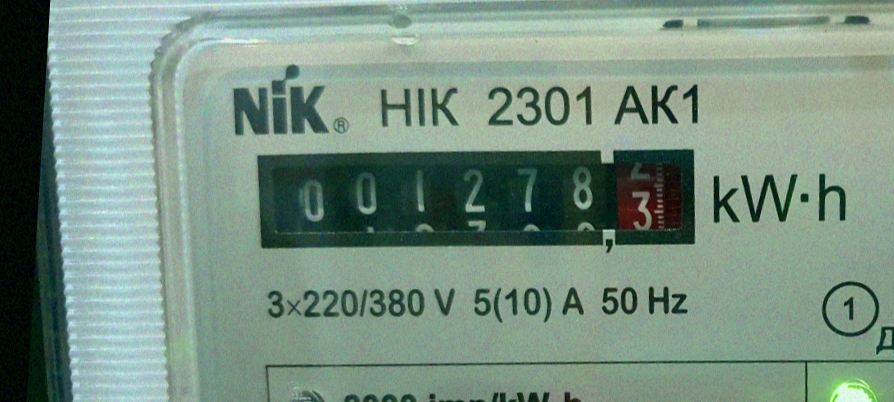0: (298, 174, 329, 224), (351, 168, 379, 216)
1: (410, 165, 429, 214)
2: (458, 165, 487, 213), (625, 159, 652, 182)
3: (626, 185, 655, 230)
7: (513, 163, 538, 213)
8: (567, 163, 595, 211)
screen: (231, 112, 716, 282)
